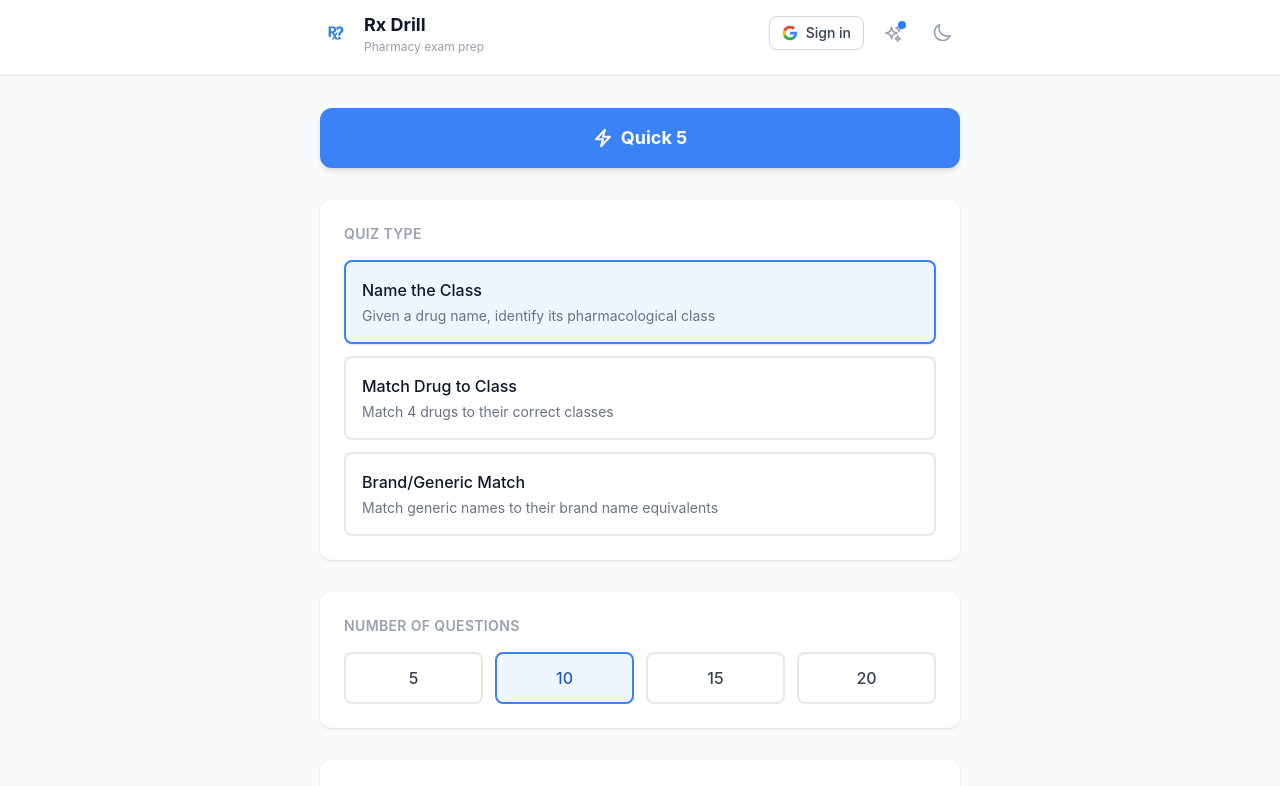
it: App › renders matching quiz with Generic/Brand labels for brand-generic type
This screenshot has width=1280, height=786.
# Select Brand/Generic Match
What coordinates should you click on to do the following:
click the text "Brand/Generic Match"
I would click on:
 (444, 482)
Its box is [362, 472, 525, 492].
(page scrolled)
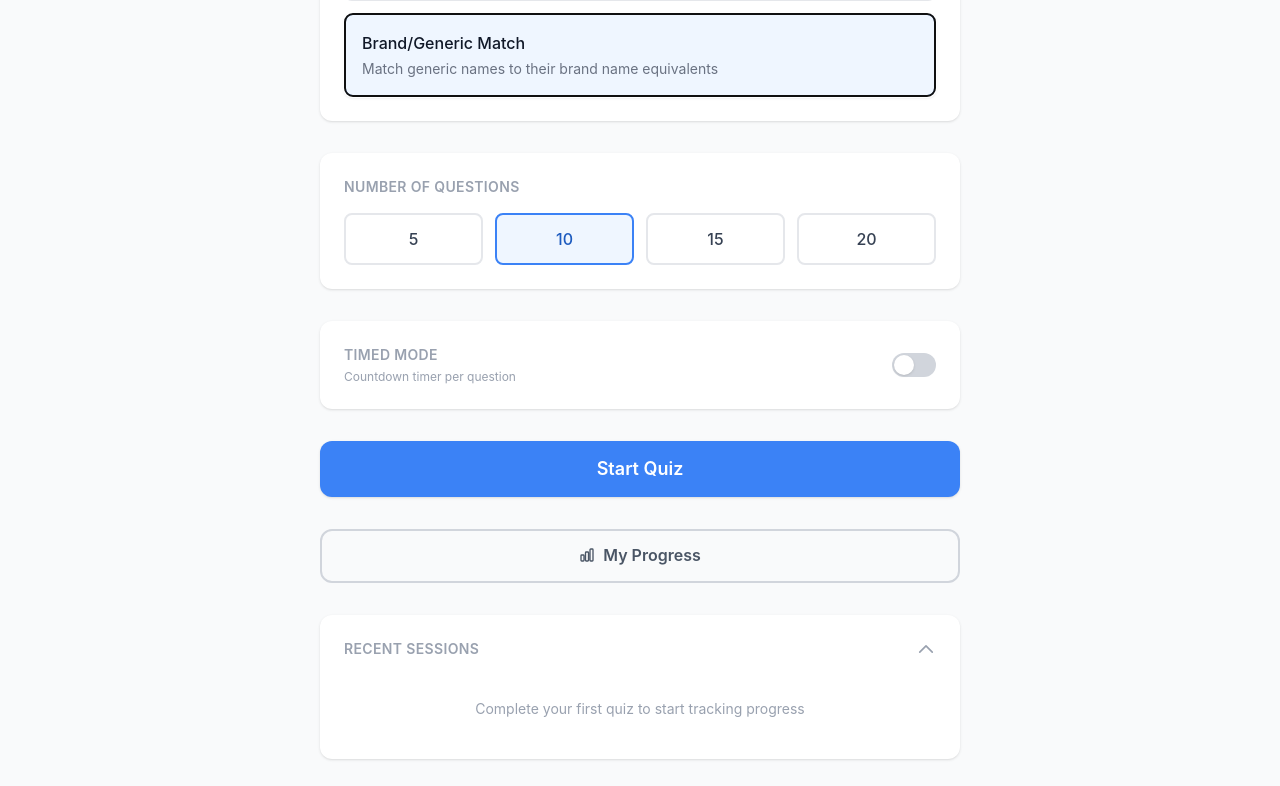
What coordinates should you click on to do the following:
click the button "Start Quiz"
I would click on:
 (640, 469)
Its box is [320, 441, 960, 497].
(page scrolled)
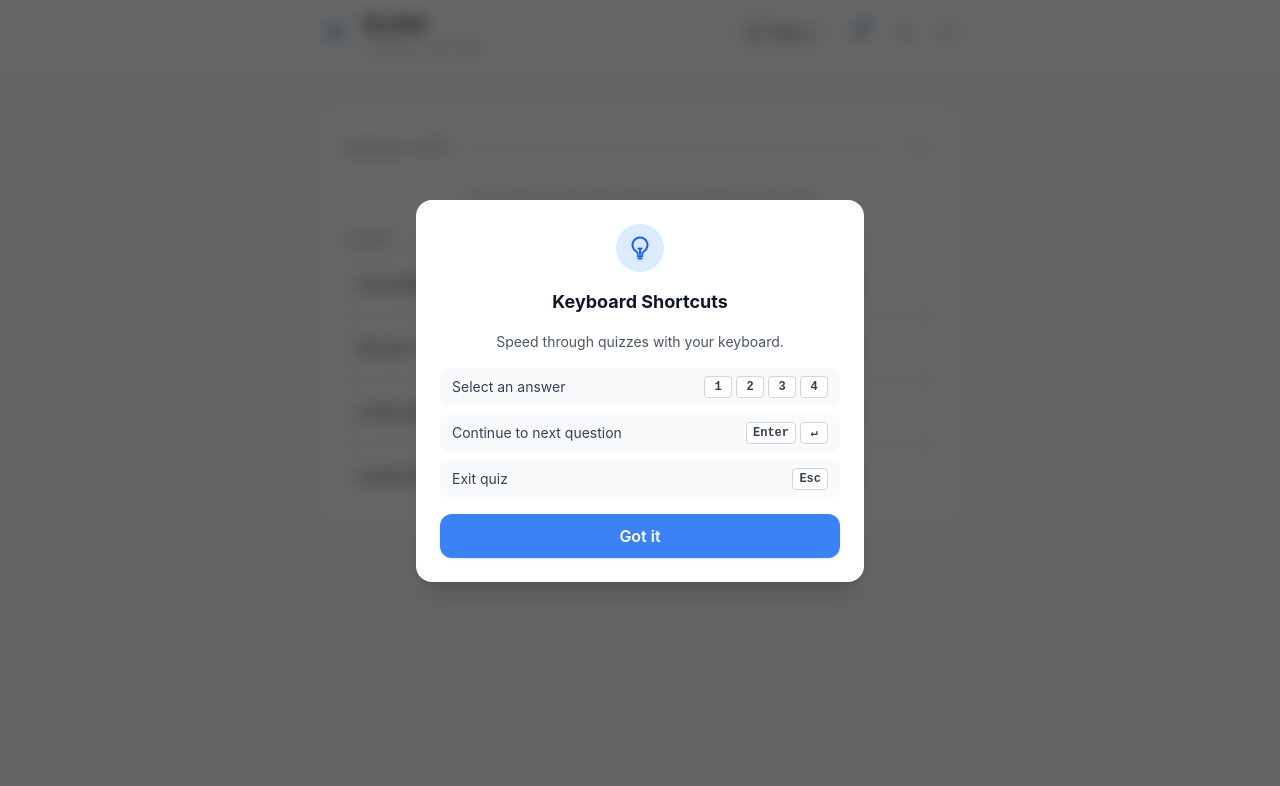
Expected: the text "Brand" is shown, [648, 232, 690, 247]
Result: the text "simvastatin" is shown at [358, 275, 433, 292]
